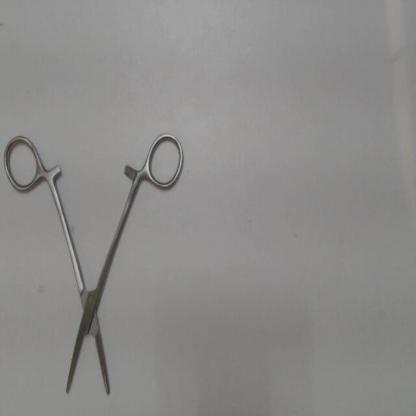Mayo Needle Holder: (1, 128, 192, 403)
